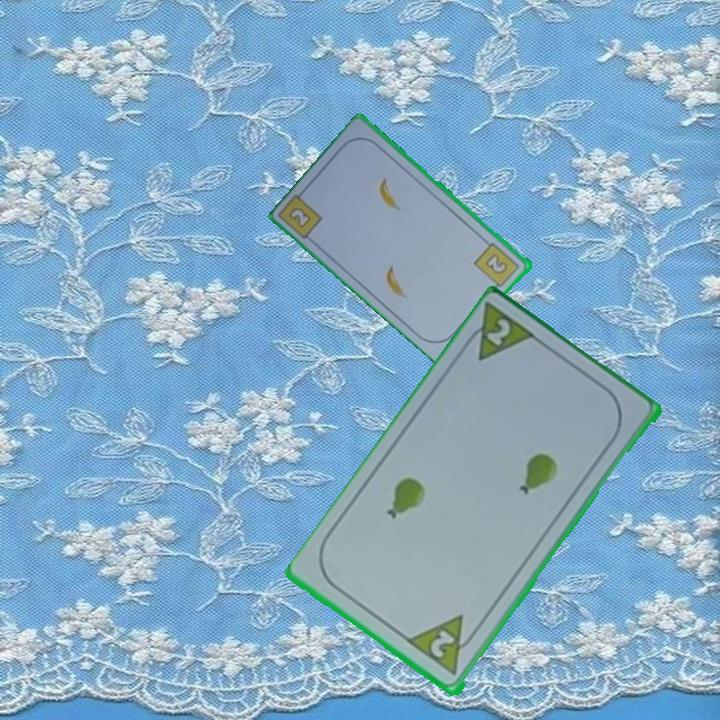2b: (471, 239, 523, 293), (288, 206, 312, 229)
2p: (426, 626, 459, 662), (483, 315, 514, 350)
